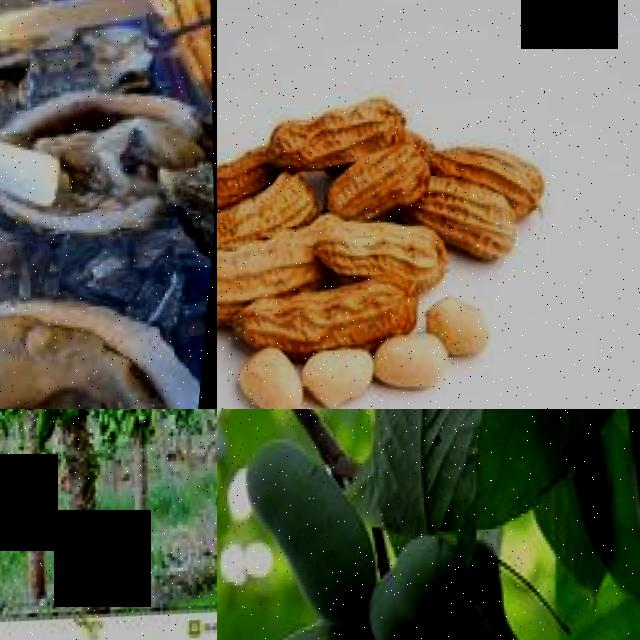oysters: (41, 69, 217, 247), (0, 267, 215, 409)
peanuts: (244, 265, 427, 349), (258, 79, 411, 150), (425, 159, 524, 265), (316, 205, 442, 281), (325, 139, 435, 216), (217, 237, 263, 331), (217, 133, 275, 197)
